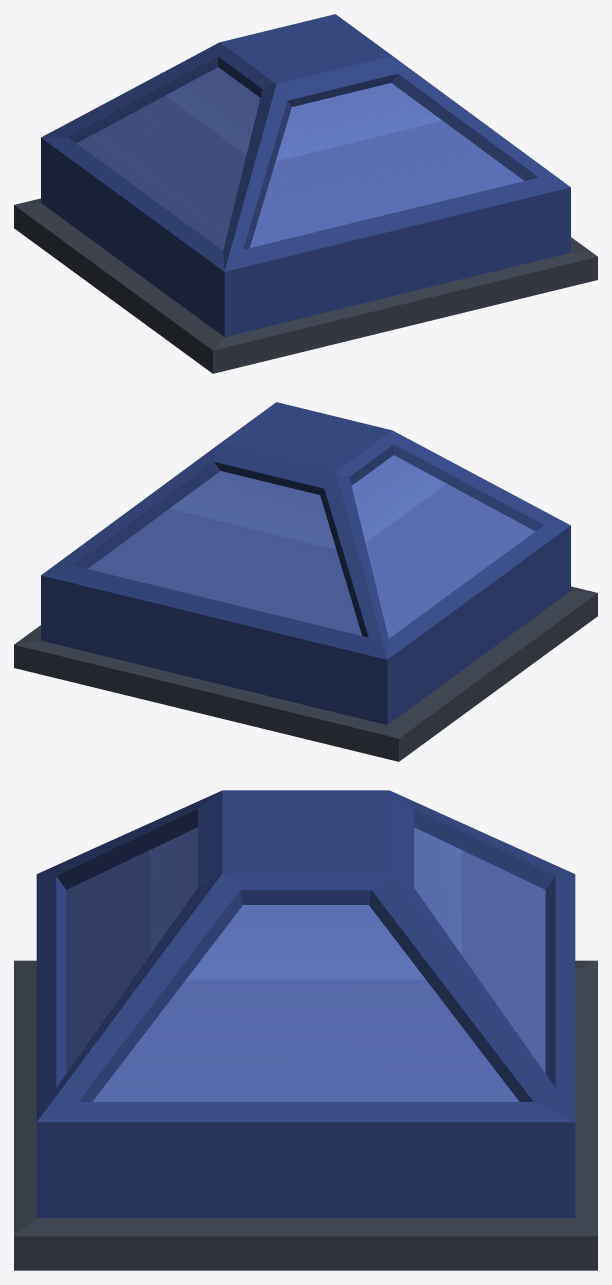
The model's file is RoofLights_3_E.fbx.
3 views of the same model, one above another, from view 1: azimuth 30°, elevation 25°; view 2: azimuth 150°, elevation 25°; view 3: azimuth 270°, elevation 25° (orthographic). The views are drawn at different scales.
Parts seen in each view (by area): view 1: RoofLights_3_E; view 2: RoofLights_3_E; view 3: RoofLights_3_E.
Part boxes in pixels (left/top/right/bottom): RoofLights_3_E: left=14, top=14, right=597, bottom=373; RoofLights_3_E: left=14, top=402, right=597, bottom=761; RoofLights_3_E: left=14, top=790, right=597, bottom=1270.
Size of the model in its own units: 73.17 by 37.23 by 65.51.
